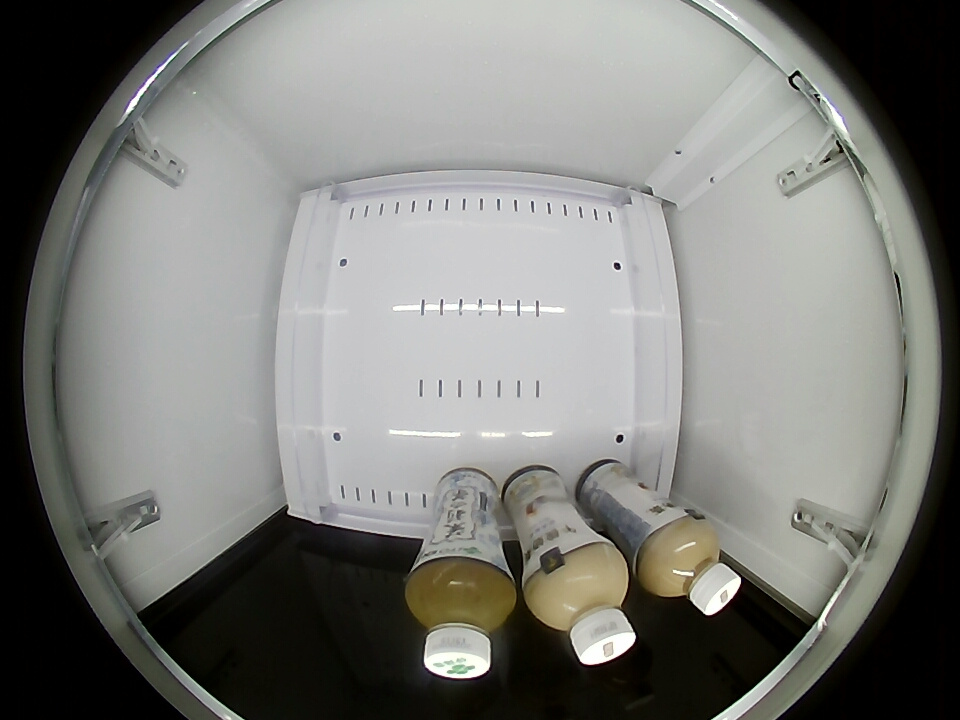baicha: (406, 555, 517, 680)
wuhounaicha: (527, 546, 636, 668), (638, 518, 743, 616)
